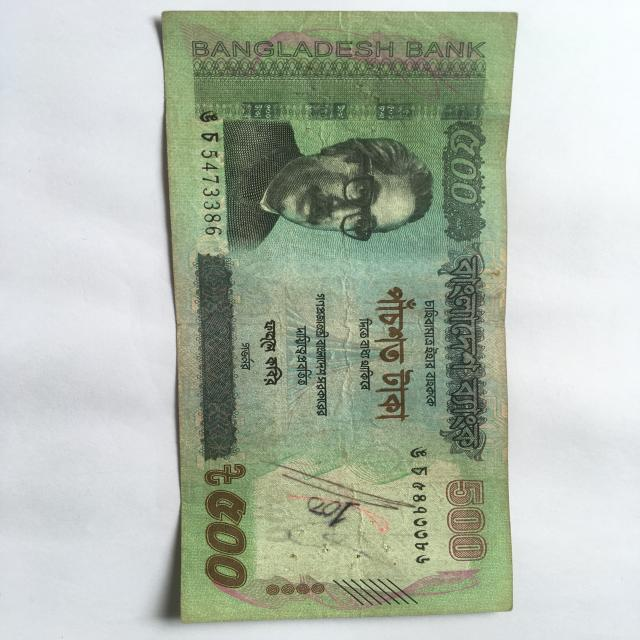Taka: (154, 6, 516, 616)
